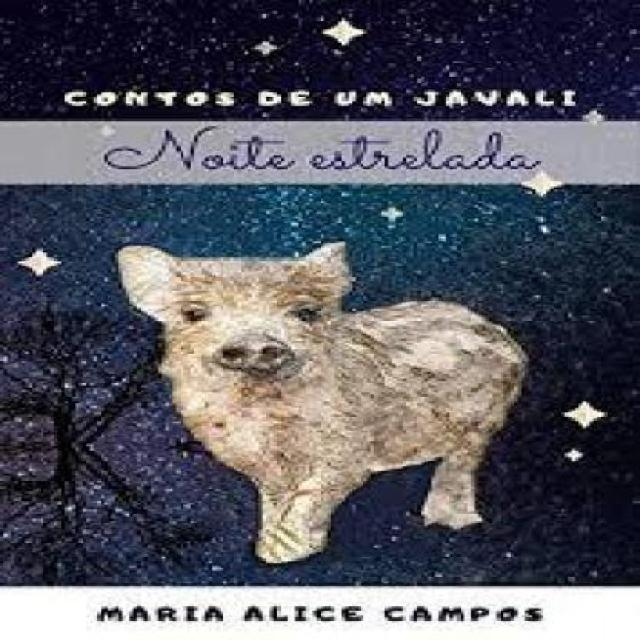wildboar: (101, 236, 545, 573)
